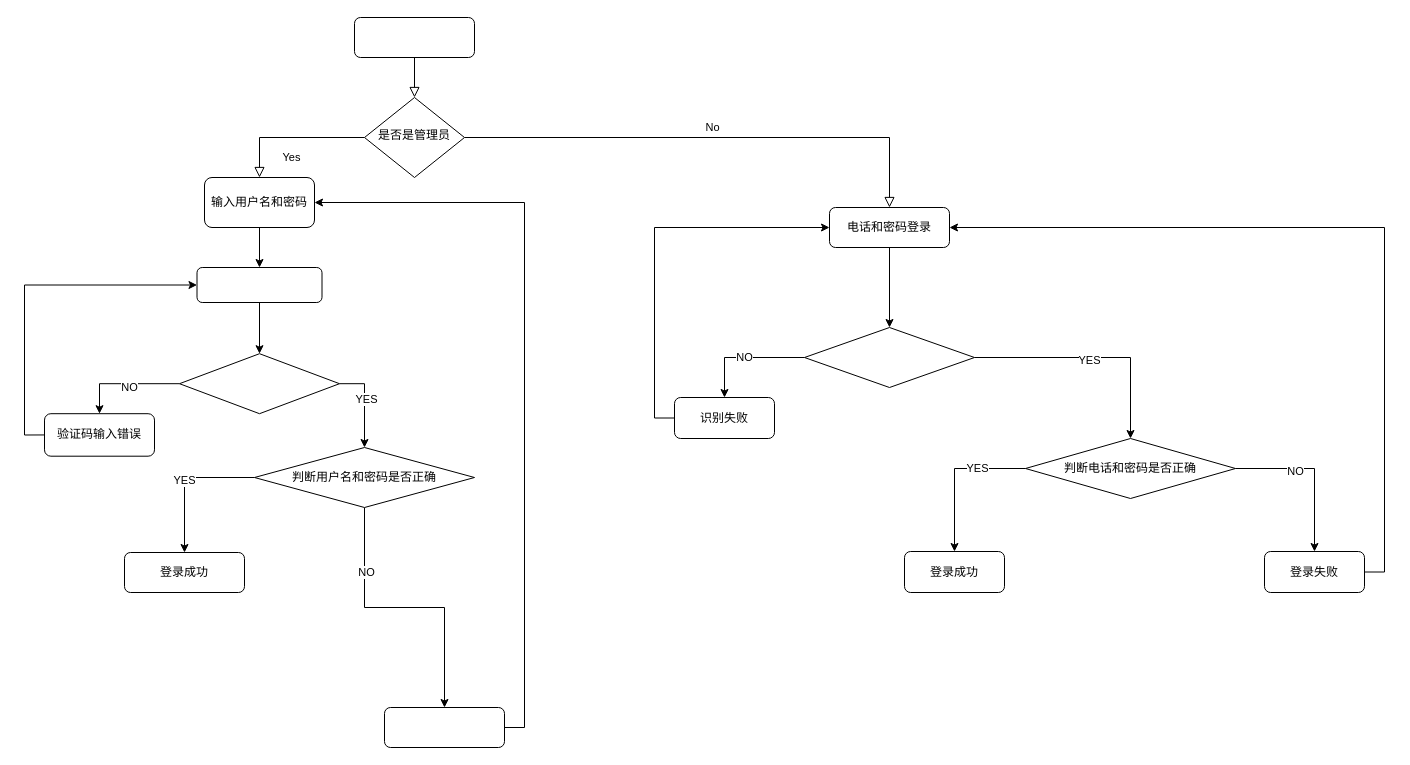
The diagram is 1410 pixels wide and 765 high, and some of its shapes have lost their labels. The box of each missing label's shape, as (x1, y1, x2, y2) in pixels:
判断输入验证码是否正确: (178, 353, 340, 414)
滑动识别真人行为: (804, 326, 974, 388)
用户登录: (354, 16, 474, 58)
登录失败: (384, 706, 504, 748)
输入验证码: (196, 266, 322, 302)
